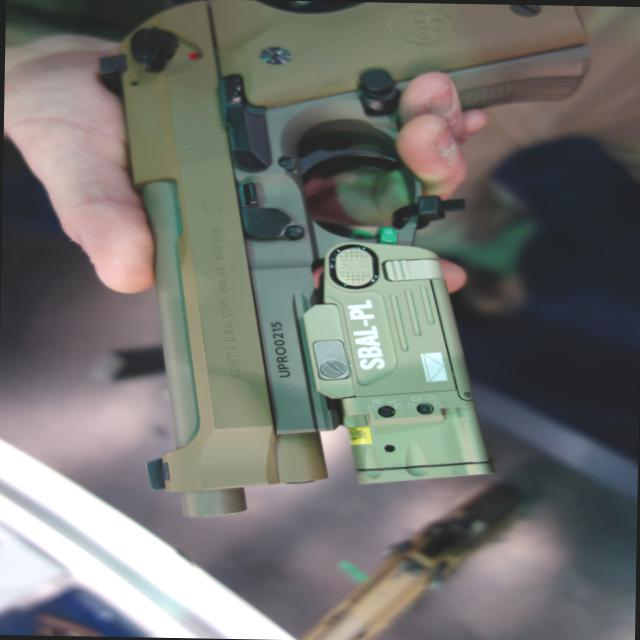handgun: (87, 0, 588, 525)
